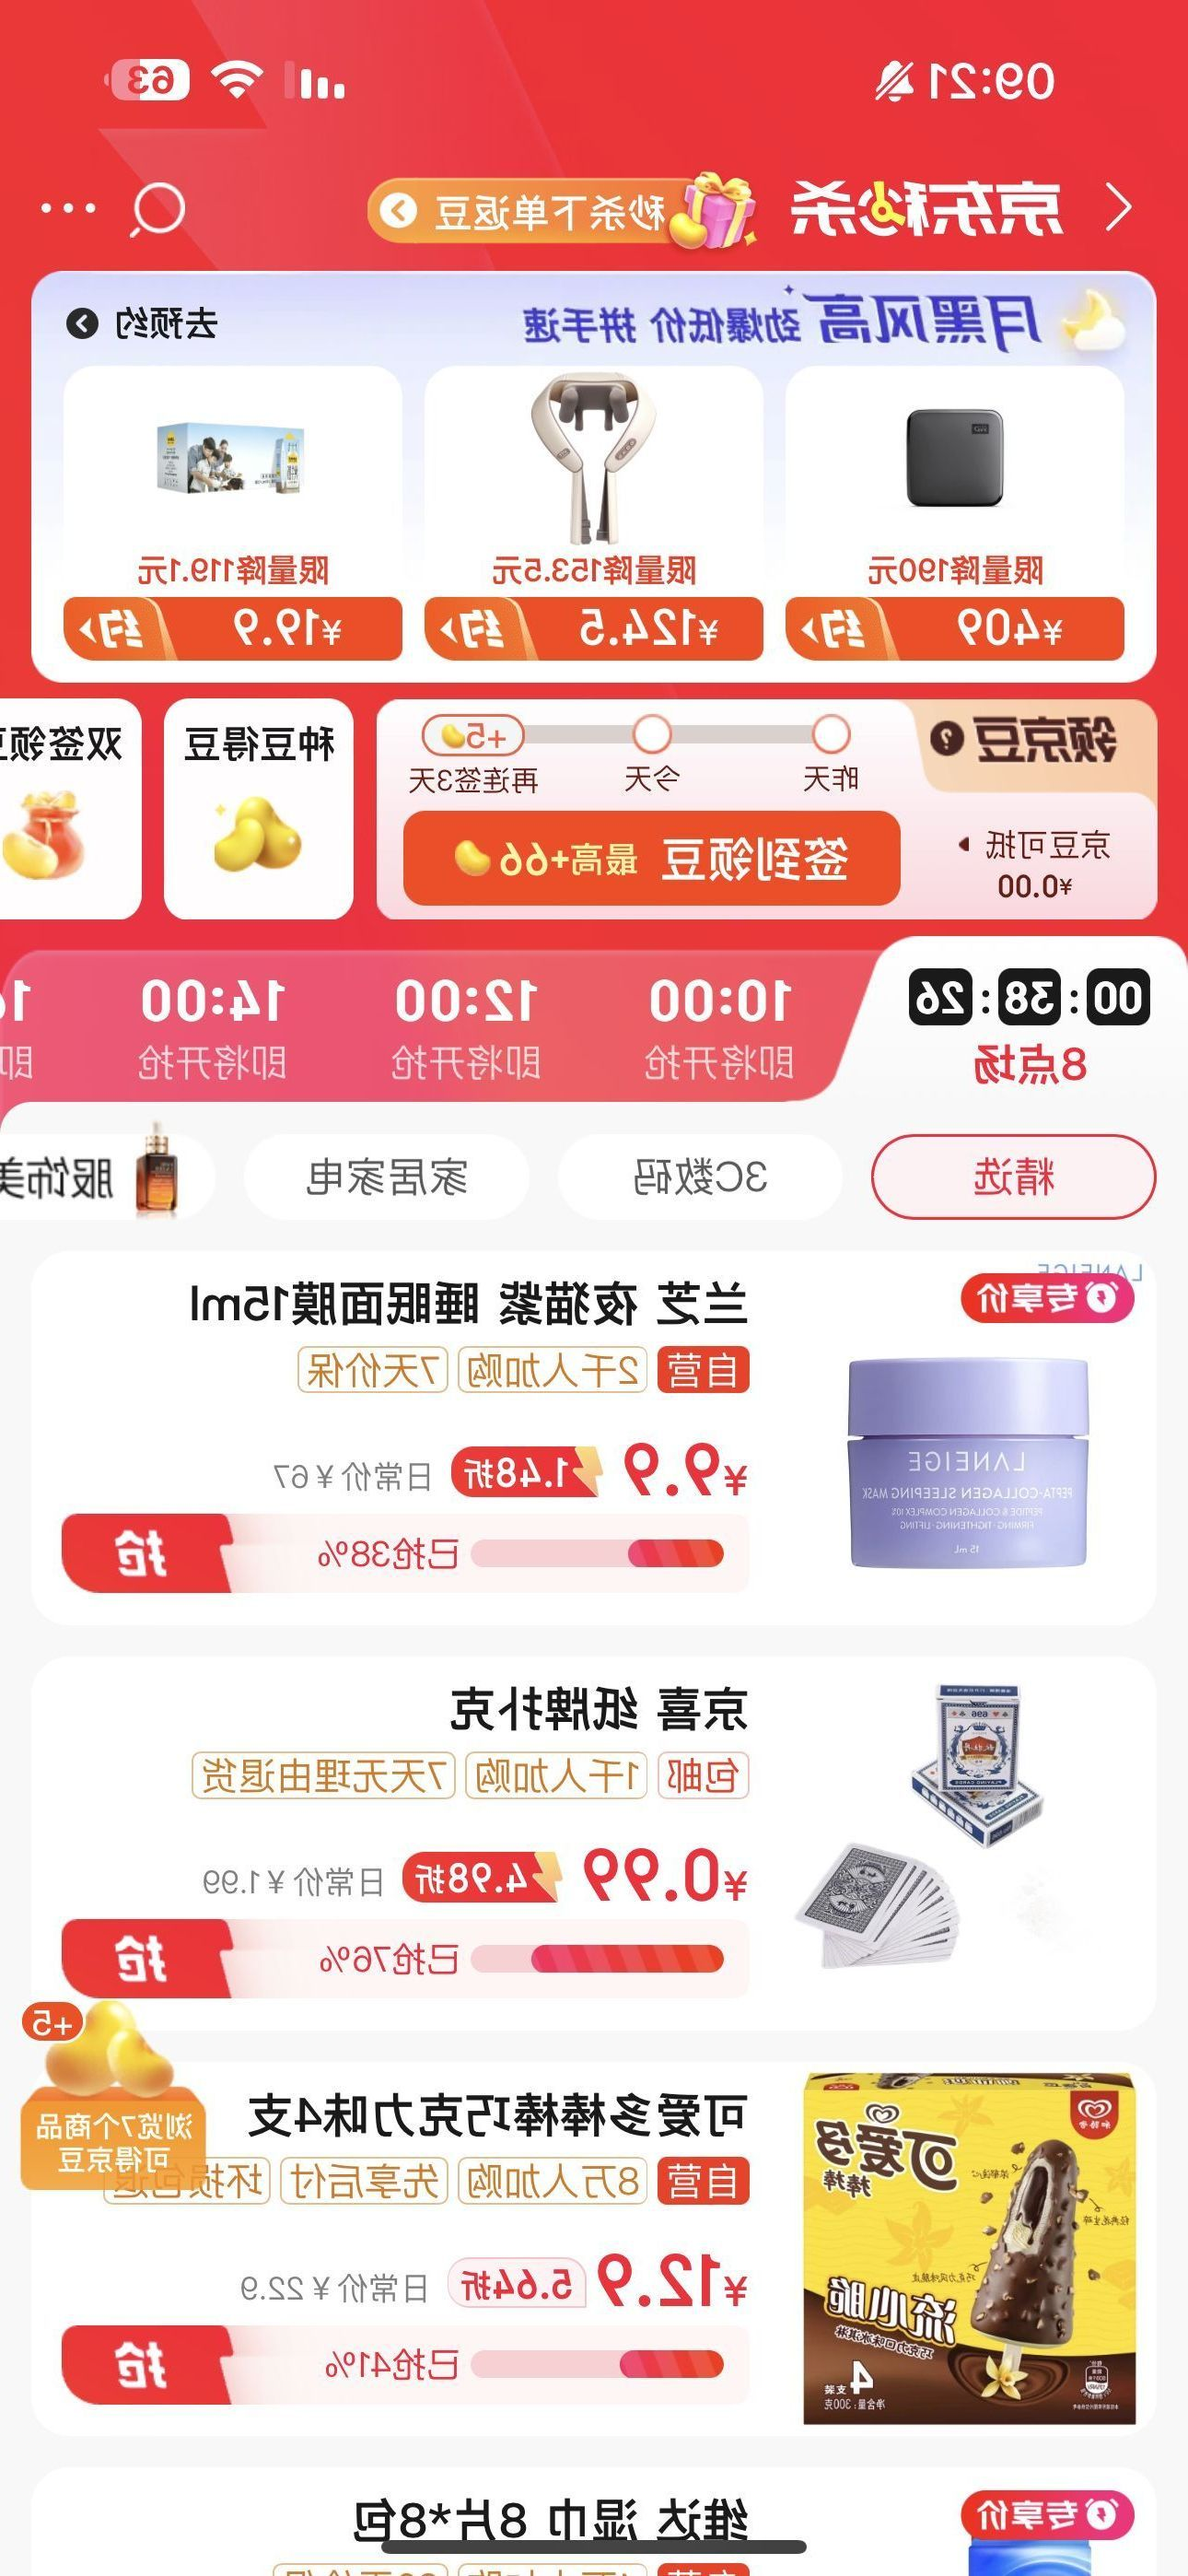item: (7, 1227, 1186, 1649), (5, 2052, 1188, 2459), (7, 1653, 1188, 2045)
op_bar: (5, 136, 1186, 271)
seckill: (7, 271, 1185, 927)
